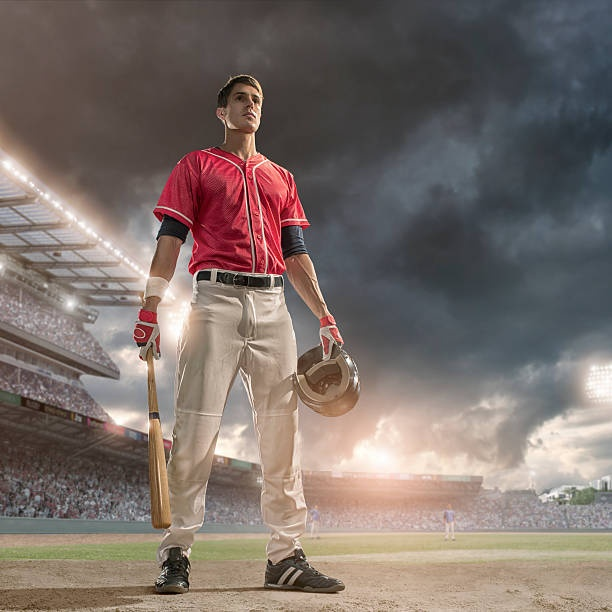bita: (140, 330, 176, 532)
